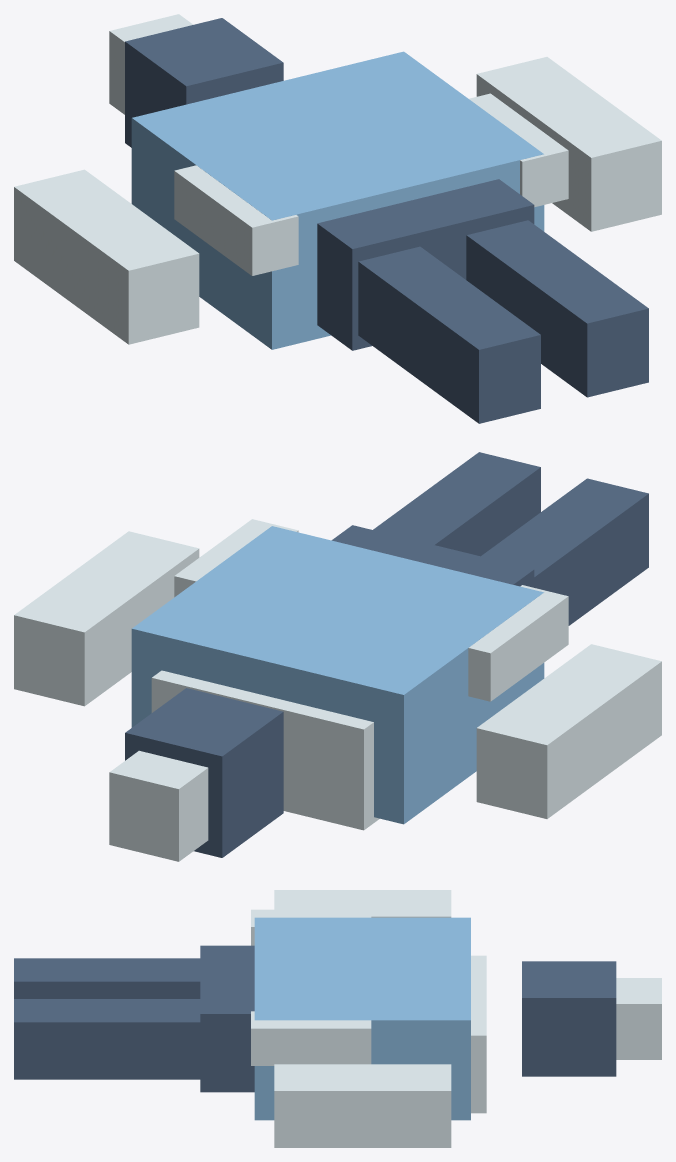
The model's file is nix-calder_male_select.glb.
3 renders of one model, top to bottom at view 1: azimuth 30°, elevation 25°; view 2: azimuth 150°, elevation 25°; view 3: azimuth 270°, elevation 25°, orthographic. The views are drawn at different scales.
Visible parts, largest first — view 1: nix-calder_male_body; view 2: nix-calder_male_body; view 3: nix-calder_male_body.
Part boxes in pixels (bbox=[...]): nix-calder_male_body: bbox=[14, 14, 661, 423]; nix-calder_male_body: bbox=[14, 452, 661, 861]; nix-calder_male_body: bbox=[14, 890, 661, 1147].
Bounding box in the file's own units: 1.38 × 0.3353 × 1.88.
